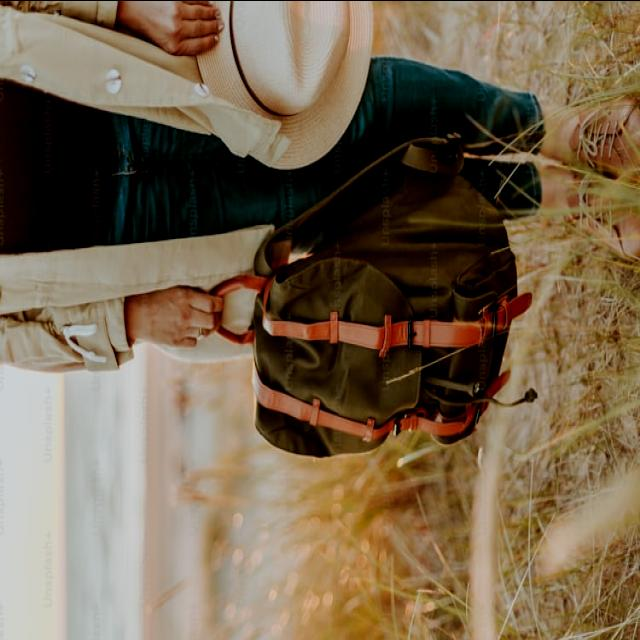backpack: (204, 136, 526, 461)
